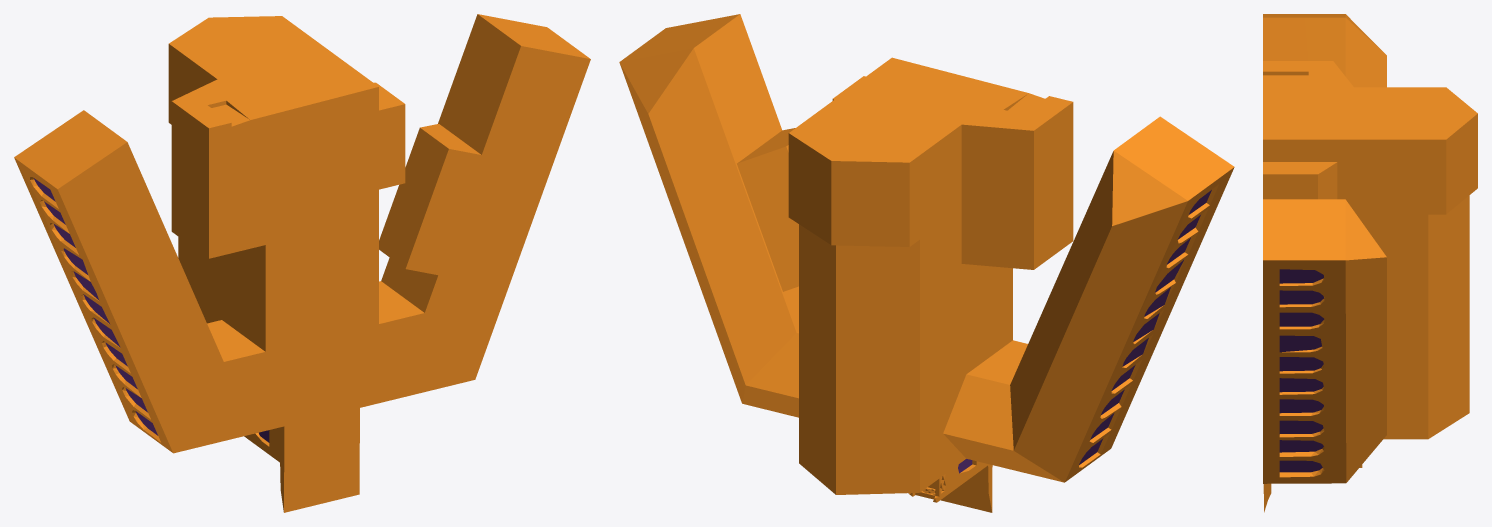
The model's file is ResursaV2.fbx.
The picture shows the model from 3 angles, left to right: view 1: azimuth 30°, elevation 25°; view 2: azimuth 150°, elevation 25°; view 3: azimuth 270°, elevation 25°; orthographic projection. The views are drawn at different scales.
Visible parts, largest first — view 1: Resursa_obj_0; view 2: Resursa_obj_0; view 3: Resursa_obj_0.
Part boxes in pixels (left/top/right/bottom): Resursa_obj_0: left=14, top=14, right=590, bottom=512; Resursa_obj_0: left=619, top=14, right=1234, bottom=512; Resursa_obj_0: left=1263, top=14, right=1477, bottom=512.
Size of the model in its own units: 41.67 by 30.59 by 15.36.
1 material, 1 textured.
